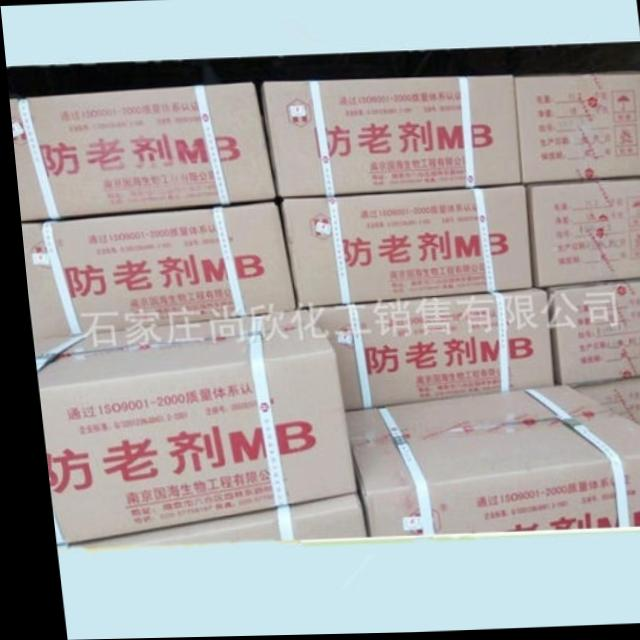box: (26, 313, 347, 544), (339, 386, 640, 540), (7, 83, 271, 223), (17, 203, 290, 337), (275, 186, 528, 310), (259, 76, 518, 197), (300, 290, 546, 412), (57, 494, 357, 545), (515, 74, 640, 189), (524, 181, 640, 290), (542, 281, 640, 388), (563, 380, 640, 433)
